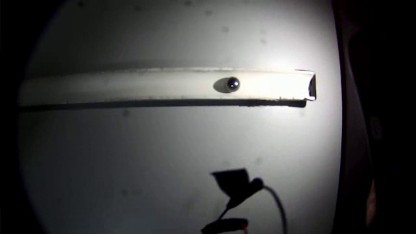gangzhu: (224, 76, 239, 89)
